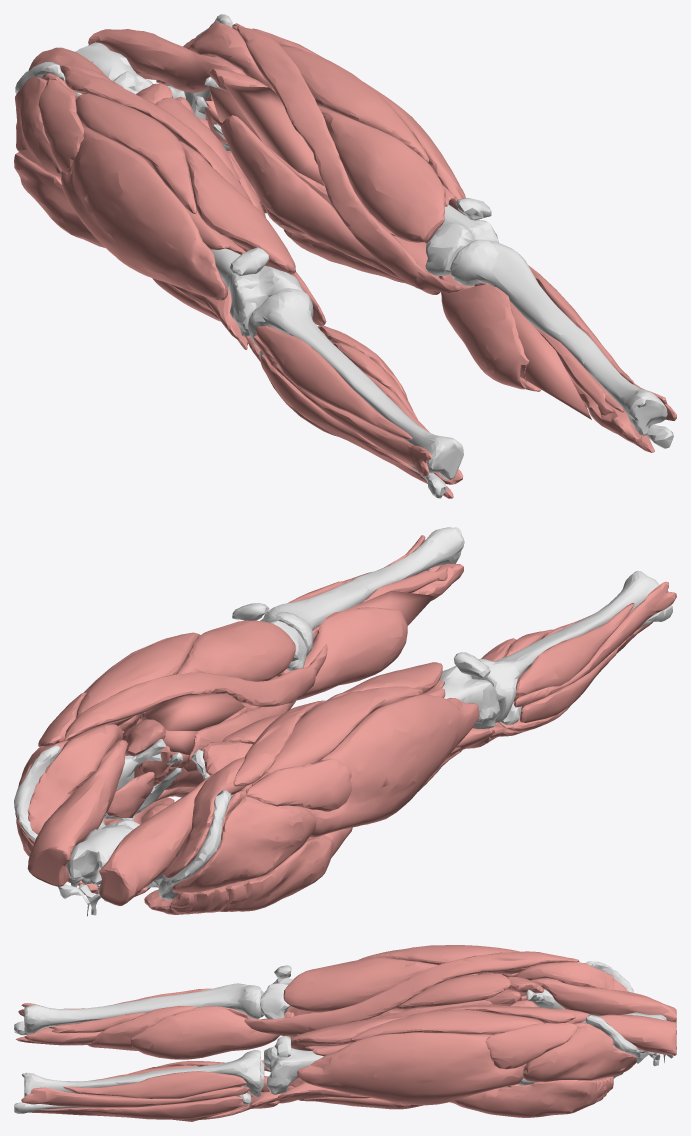
File: FinalForm8.glb
3 renders of one model, top to bottom at view 1: azimuth 30°, elevation 25°; view 2: azimuth 150°, elevation 25°; view 3: azimuth 270°, elevation 25°, orthographic. The views are drawn at different scales.
Visible parts, largest first — view 1: MC_bodycoil_vetted_L_tibialis_anterior; view 2: MC_bodycoil_vetted_L_tibialis_anterior; view 3: MC_bodycoil_vetted_L_tibialis_anterior.
Part boxes in pixels (box(x1,y1,x2,y2)): MC_bodycoil_vetted_L_tibialis_anterior: box(14, 14, 676, 498); MC_bodycoil_vetted_L_tibialis_anterior: box(14, 527, 676, 916); MC_bodycoil_vetted_L_tibialis_anterior: box(14, 945, 676, 1121).
Bounding box in the file's own units: 37.19 × 17.85 × 100.
